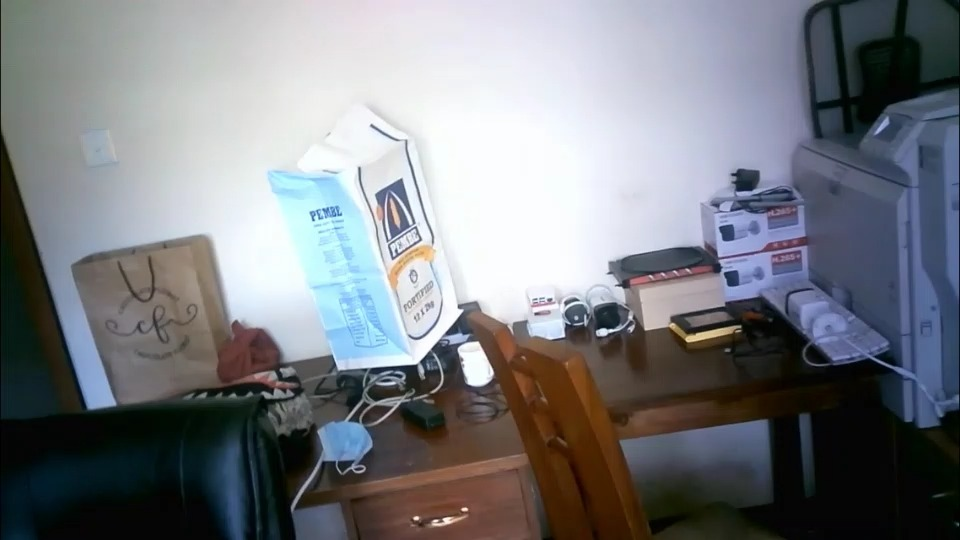wheat_flour_blue_label: (268, 104, 461, 364)
